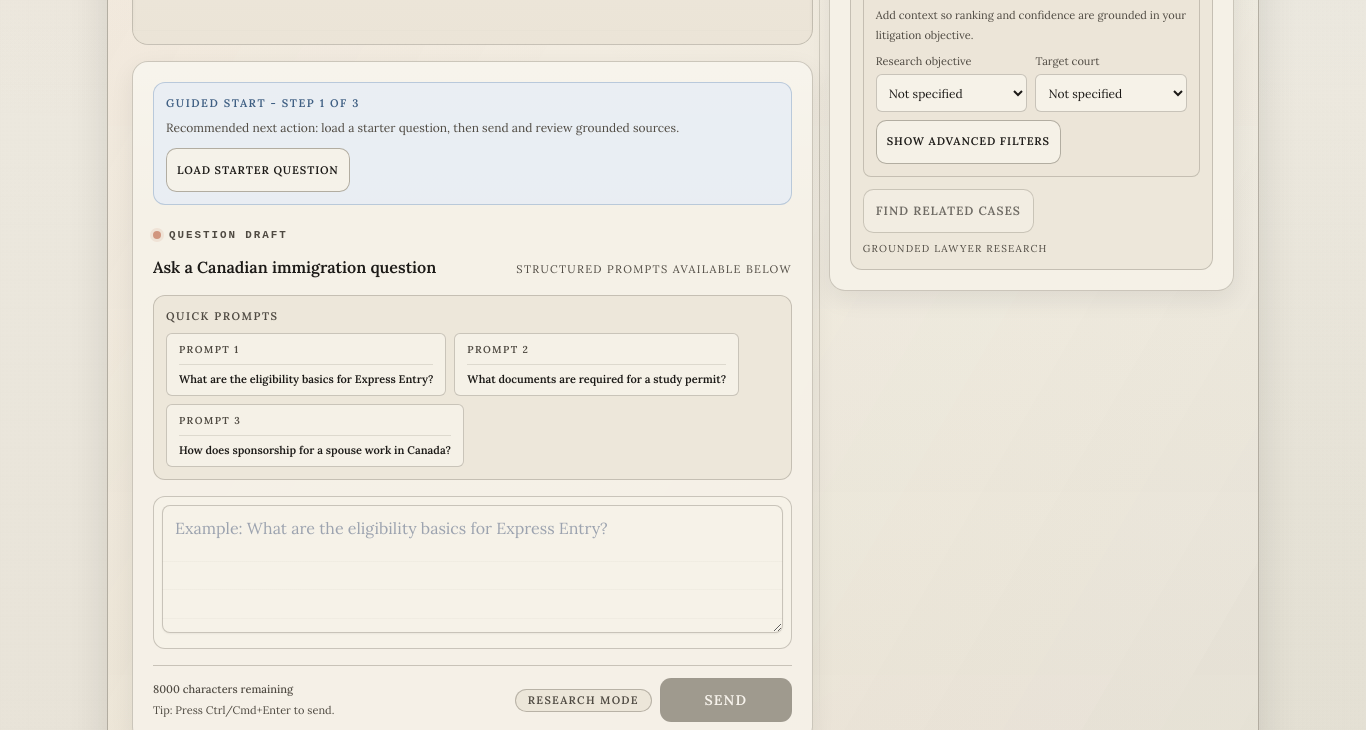
it: chat shell ui › hides timeline UI affordances when thinking timeline feature flag is disabled
The image size is (1366, 730).
(page scrolled)
In the text box labelled "Ask a Canadian immigration question": {"x": 472, "y": 569} [162,505,783,633], type "How does Express Entry work?"
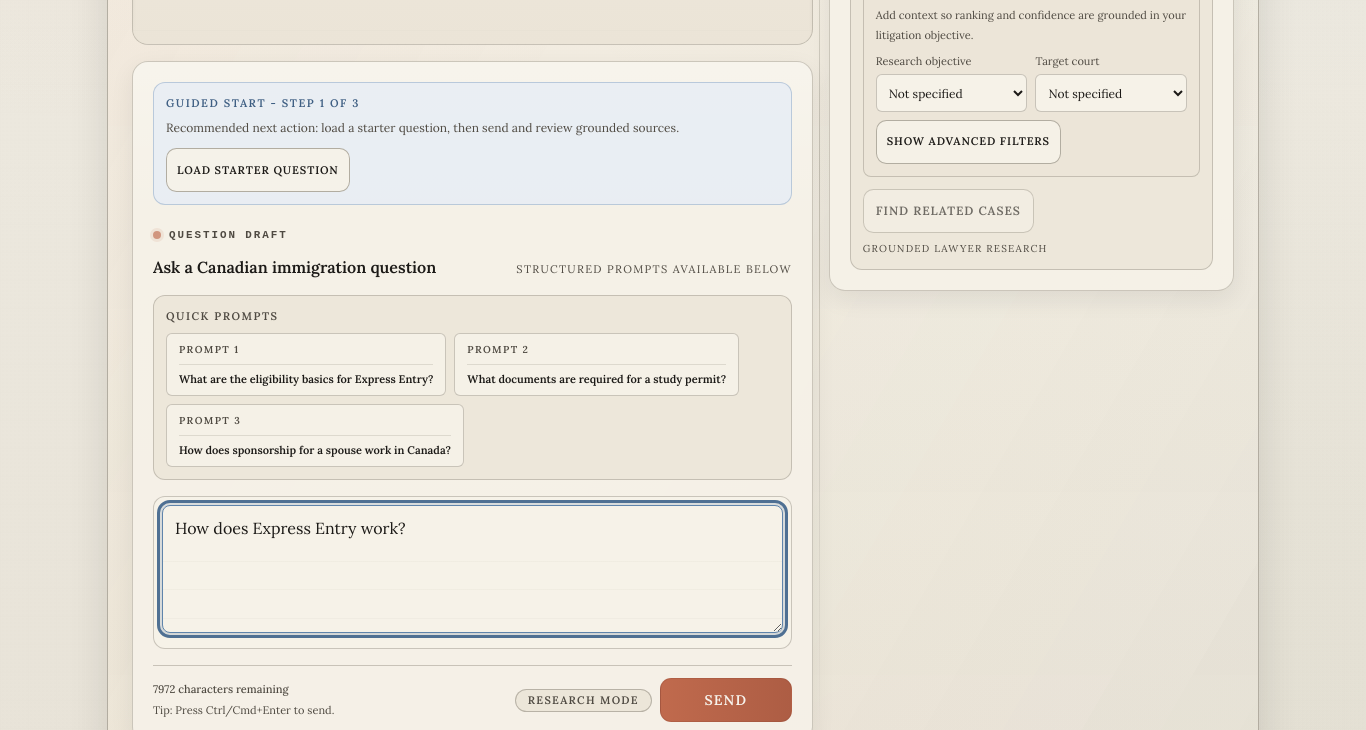
Click the button "Send": {"x": 726, "y": 700} [660,678,792,722]
(page scrolled)
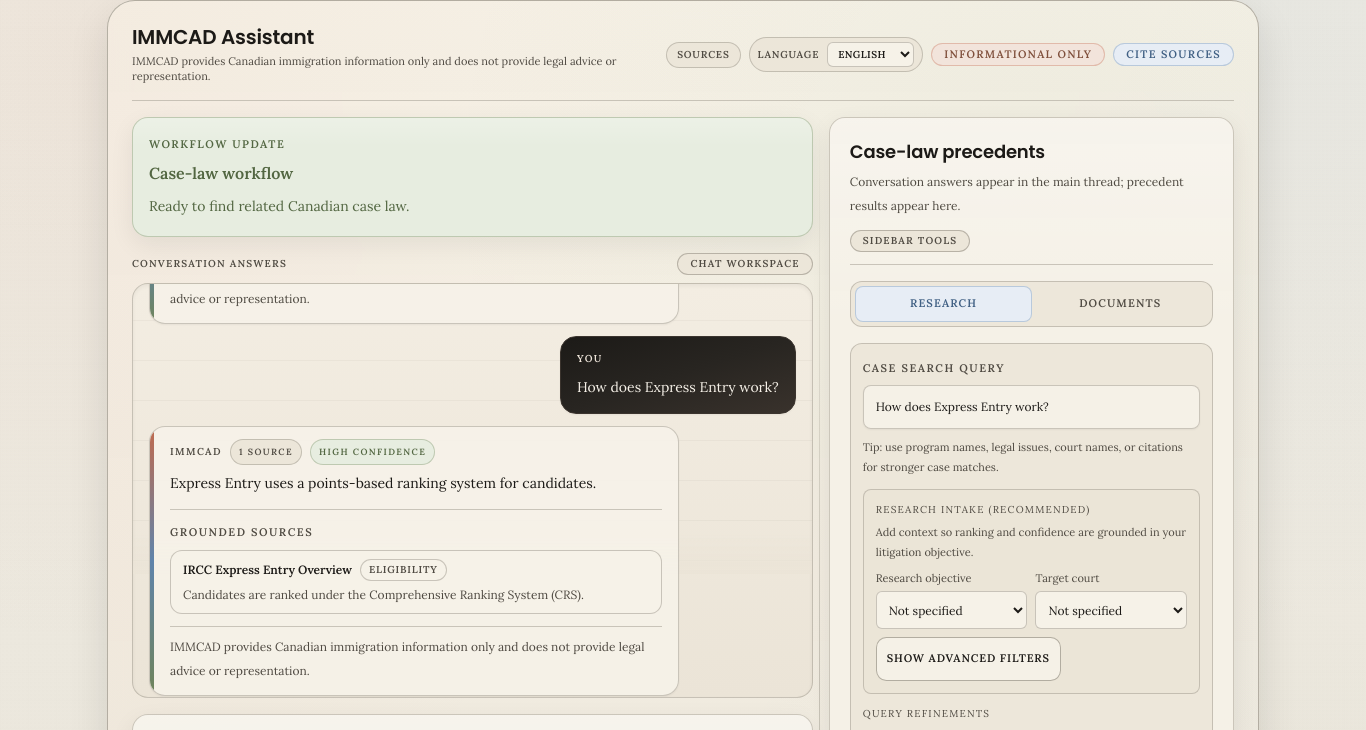
Expected: the text "Express Entry uses a points-based ranking system for candidates." is shown, [170,469,662,497]
